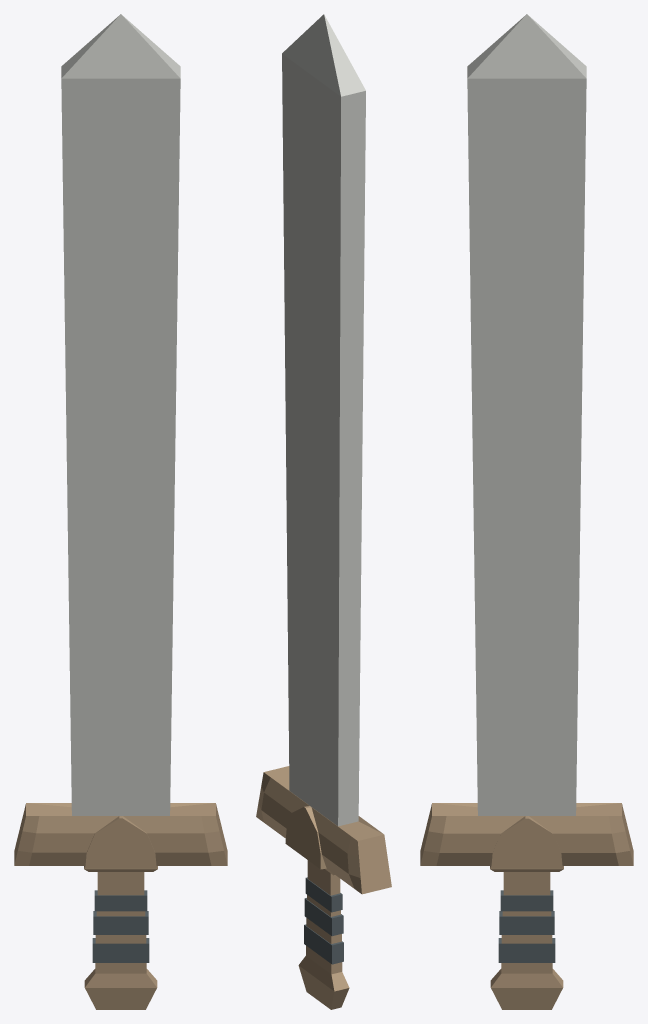
Rendered from stone_sword.glb.
3 views of the same model, side by side, from view 1: azimuth 90°, elevation 25°; view 2: azimuth 210°, elevation 25°; view 3: azimuth 270°, elevation 25° (orthographic).
Visible parts, largest first — view 1: wooden_sword.001; view 2: wooden_sword.001; view 3: wooden_sword.001.
Part boxes in pixels (x1,y1,x2,y2): wooden_sword.001: [14, 14, 227, 1009]; wooden_sword.001: [256, 14, 391, 1009]; wooden_sword.001: [420, 14, 633, 1009].
Size of the model in its own units: 0.0445 by 1 by 0.1957.
